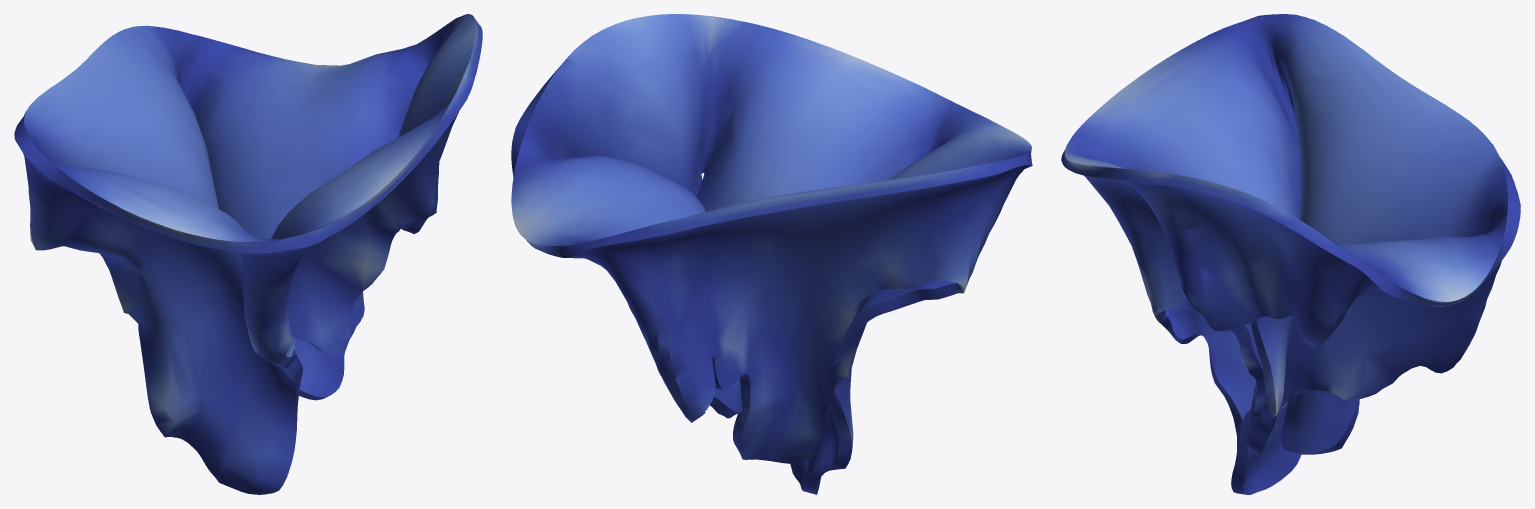
3 views of the same model, side by side, from view 1: azimuth 30°, elevation 25°; view 2: azimuth 150°, elevation 25°; view 3: azimuth 270°, elevation 25° (orthographic). The views are drawn at different scales.
Parts seen in each view (by area): view 1: OCS14_maxS_18; view 2: OCS14_maxS_18; view 3: OCS14_maxS_18.
Part boxes in pixels (left/top/right/bottom): OCS14_maxS_18: left=14, top=14, right=482, bottom=494; OCS14_maxS_18: left=511, top=14, right=1032, bottom=494; OCS14_maxS_18: left=1061, top=14, right=1520, bottom=494.
Bounding box in the file's own units: 1.43 × 1.22 × 1.26.
